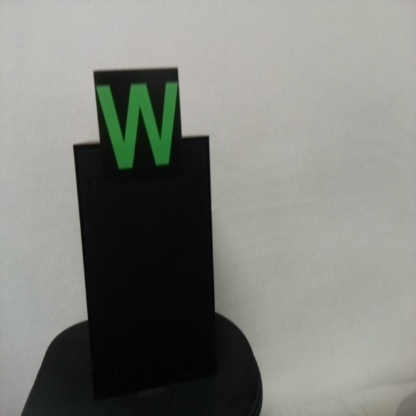id_12: (93, 70, 185, 186)
